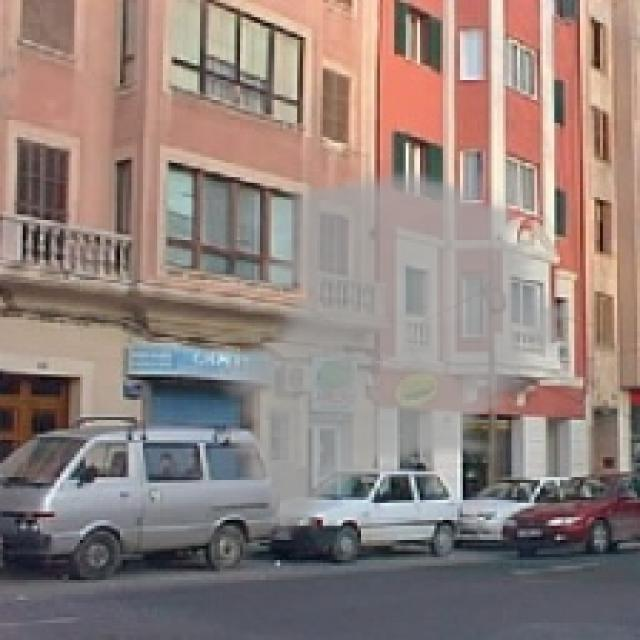Smoke: (205, 165, 580, 538)
